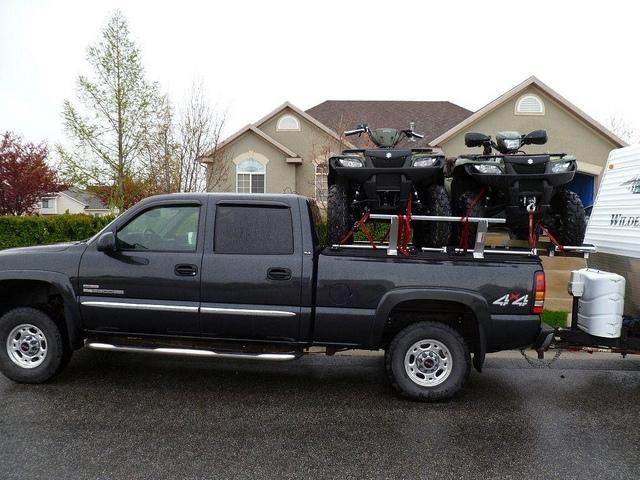truck: (0, 198, 550, 406)
